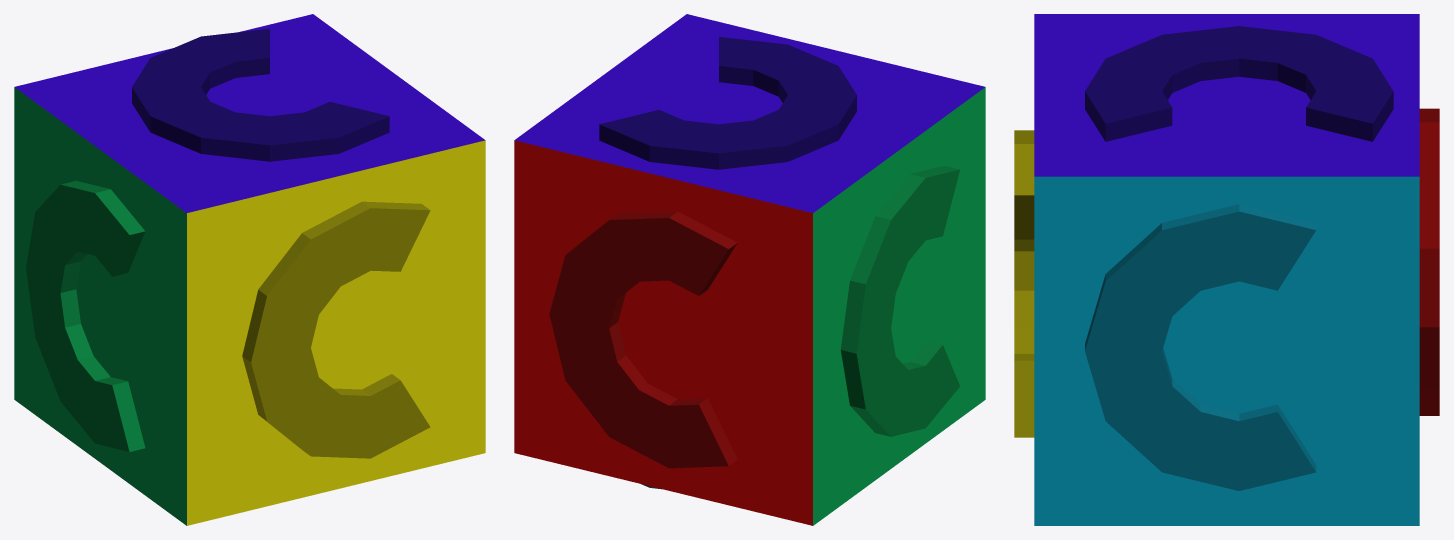
The picture shows the model from 3 angles, left to right: view 1: azimuth 30°, elevation 25°; view 2: azimuth 150°, elevation 25°; view 3: azimuth 270°, elevation 25°; orthographic projection. The views are drawn at different scales.
Visible parts, largest first — view 1: C; view 2: C; view 3: C.
Boxes of the visible parts, left/top/right/bottom form: C: left=14, top=14, right=485, bottom=525; C: left=514, top=14, right=985, bottom=525; C: left=1014, top=14, right=1439, bottom=525.
Bounding box in the file's own units: 1.1 × 1.09 × 1.1.
